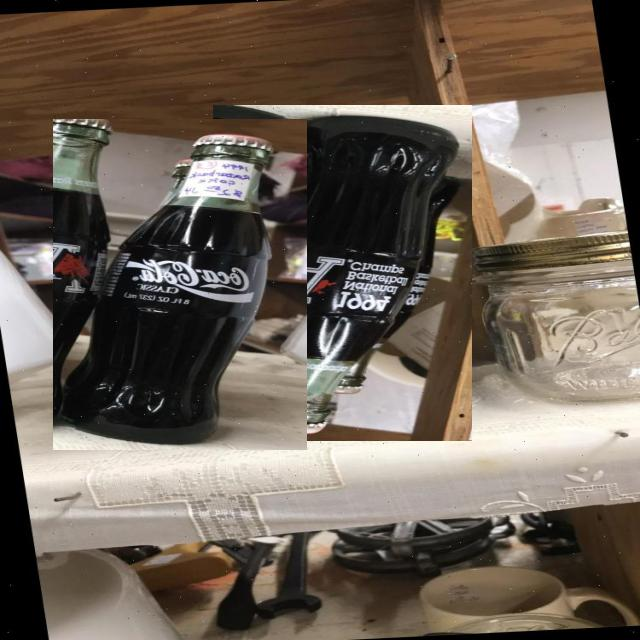coca-cola: (213, 105, 472, 441), (53, 119, 307, 450)
